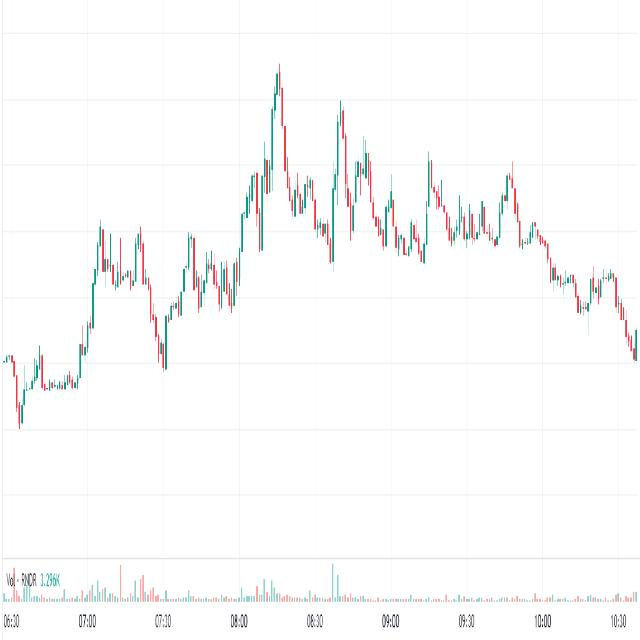Descending-Triangle: (258, 4, 465, 269)
Head-Shoulders: (235, 53, 332, 295)
